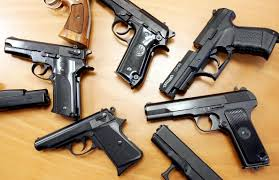Arma Real: (144, 87, 274, 171), (161, 4, 278, 92), (4, 34, 93, 120), (34, 108, 143, 177), (94, 1, 176, 91)
